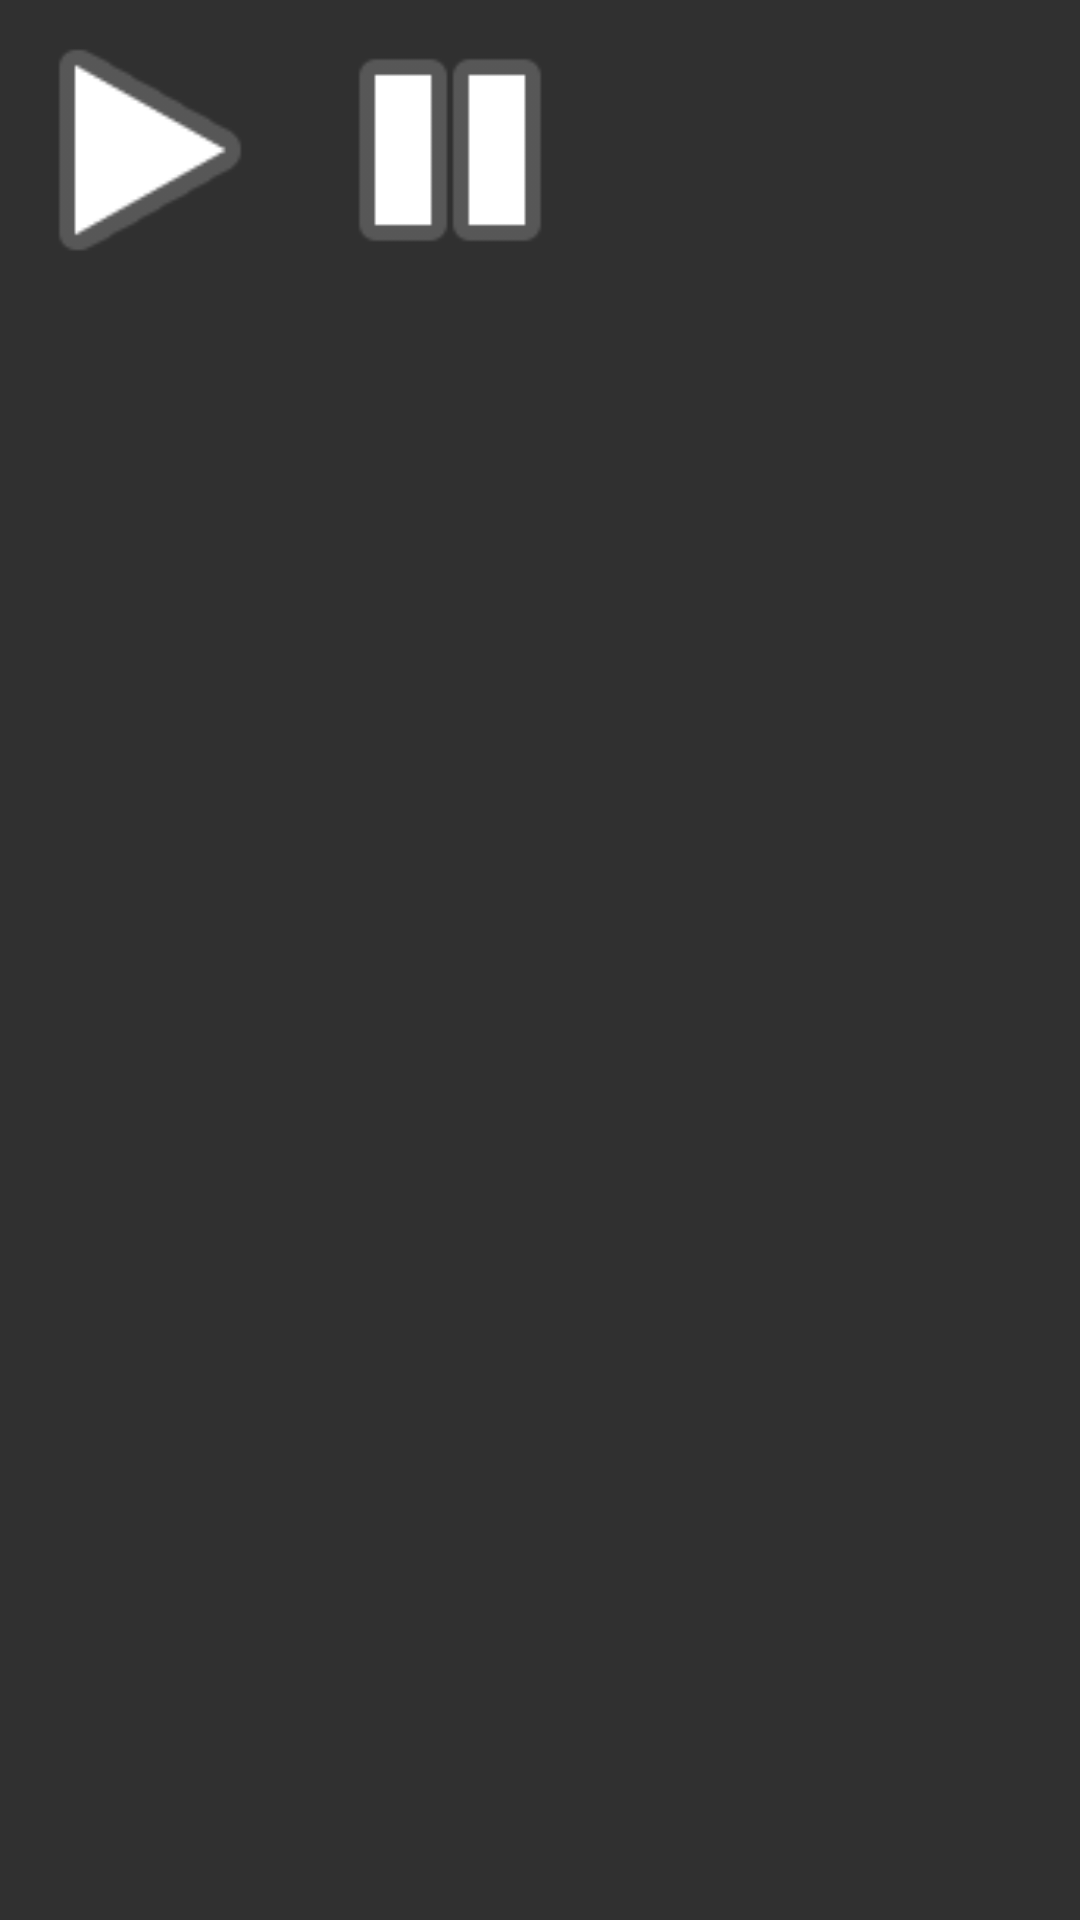

Icon bounding boxes for this 1080*1920 phone screenshot, format {"left": x1, "top": y1, "right": x2, "bottom": y2}:
pause: {"left": 360, "top": 60, "right": 540, "bottom": 240}
play: {"left": 60, "top": 50, "right": 240, "bottom": 250}
